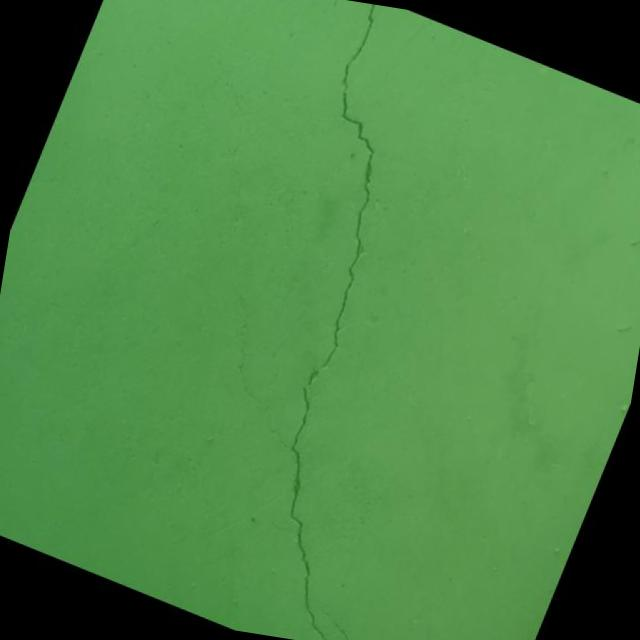crack: (127, 0, 600, 640), (224, 338, 262, 392)
